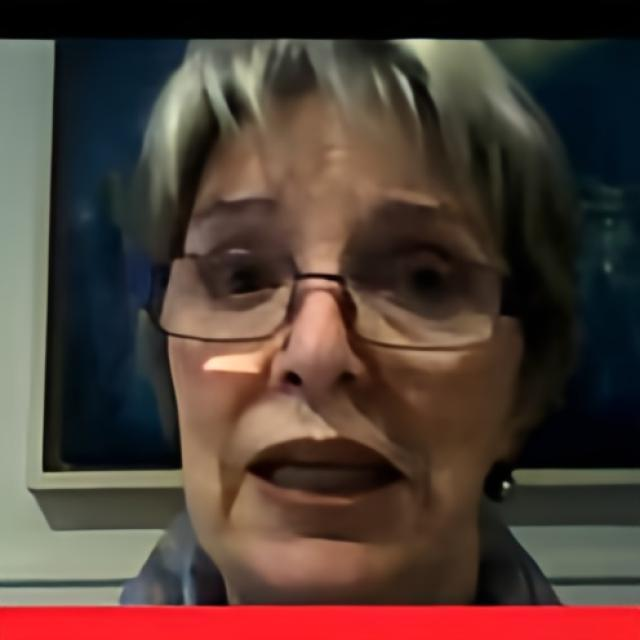fear: (162, 79, 524, 602)
